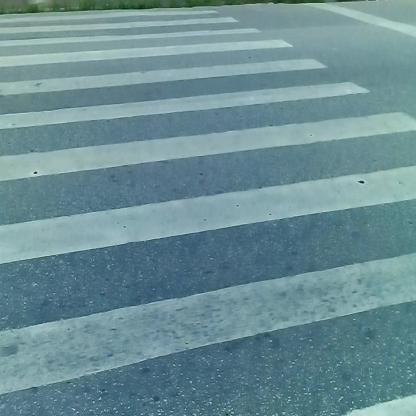crosswalk: (3, 11, 400, 402)
